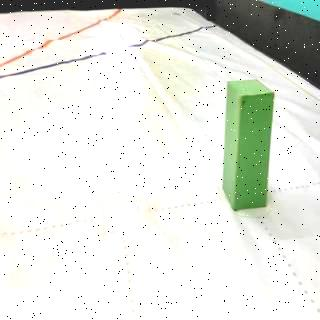greenbox: (220, 78, 278, 210)
